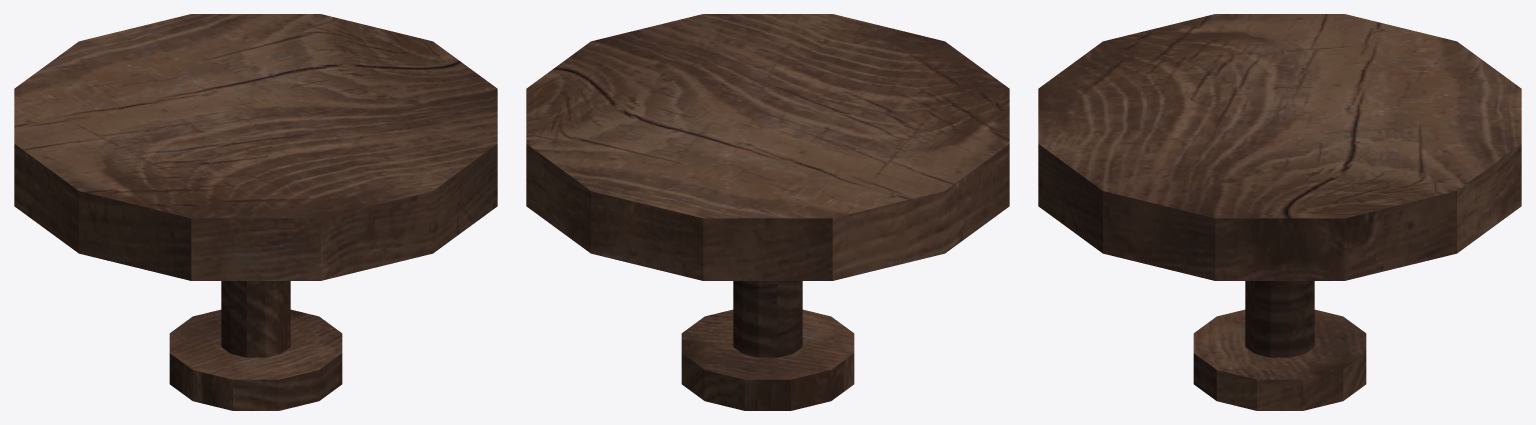
Rendered from CardTableTextured.fbx.
3 views of the same model, side by side, from view 1: azimuth 30°, elevation 25°; view 2: azimuth 150°, elevation 25°; view 3: azimuth 270°, elevation 25° (orthographic).
Visible parts, largest first — view 1: cylinder, cylinder_1, tube; view 2: cylinder, cylinder_1, tube; view 3: cylinder, cylinder_1, tube.
Part boxes in pixels (x1=…): cylinder: x1=14, y1=14, x2=497, y2=280; cylinder_1: x1=169, y1=309, x2=342, y2=410; tube: x1=221, y1=281, x2=290, y2=357; cylinder: x1=526, y1=14, x2=1009, y2=280; cylinder_1: x1=681, y1=309, x2=854, y2=410; tube: x1=733, y1=281, x2=802, y2=357; cylinder: x1=1038, y1=14, x2=1521, y2=280; cylinder_1: x1=1193, y1=309, x2=1366, y2=410; tube: x1=1245, y1=281, x2=1314, y2=357.
Bounding box in the file's own units: 350 × 206 × 350.
1 material, 1 textured.
